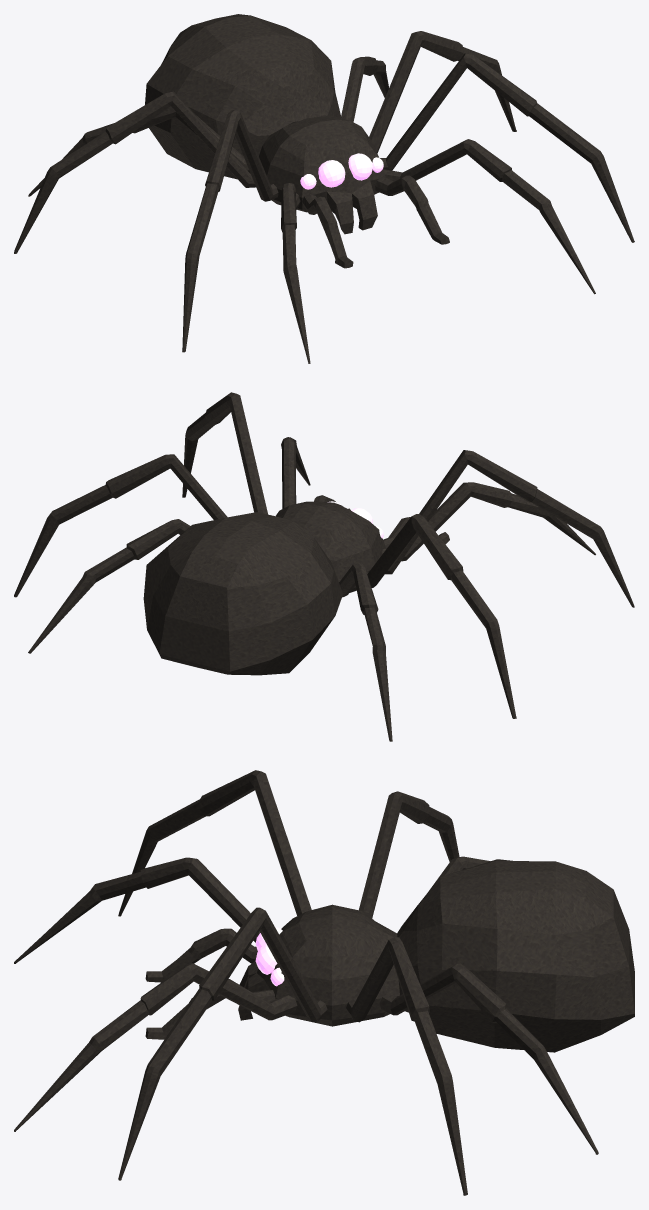
Rendered from cave_spider_v3.glb.
The picture shows the model from 3 angles, top to bottom: view 1: azimuth 30°, elevation 25°; view 2: azimuth 150°, elevation 25°; view 3: azimuth 270°, elevation 25°; orthographic projection. The views are drawn at different scales.
Visible parts, largest first — view 1: body, leg_l0, leg_r0, leg_r1, leg_r3, leg_l1, leg_r2; view 2: body, leg_r0, leg_r3, leg_l0, leg_r2, leg_l3, leg_l2; view 3: body, leg_l0, leg_r0, leg_r3, leg_l2, leg_l1, leg_l3.
Part boxes in pixels (x1,y1,x2,y2): body: (14,14,634,363); leg_l0: (383,139,551,211); leg_r0: (281,183,300,272); leg_r1: (182,258,198,350); leg_r3: (29,115,355,194); leg_l1: (326,157,633,241); leg_r2: (14,139,362,252); body: (14,392,634,741); leg_r0: (382,482,550,561); leg_r3: (283,501,392,740); leg_l0: (281,437,297,508); leg_r2: (448,576,516,717); leg_l3: (29,577,93,652); leg_l2: (14,493,115,596); body: (14,770,634,1195); leg_l0: (89,963,297,1050); leg_r0: (89,857,260,942); leg_r3: (299,914,365,940); leg_l2: (411,1015,467,1193); leg_l1: (118,928,282,1179); leg_l3: (539,1053,598,1153).
Bounding box in the file's own units: 0.95 × 0.3119 × 0.8433.
Materials: 2 (1 with a texture image).
